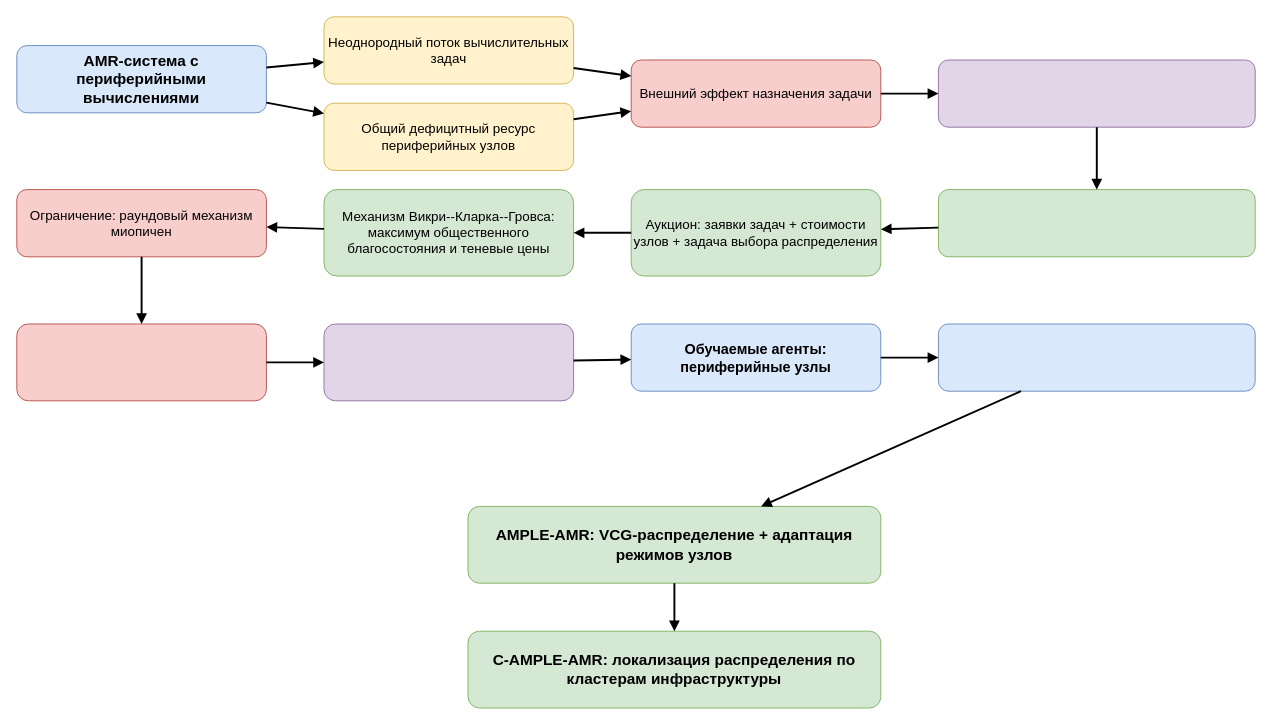
This 1272x725 diagram has some shape labels left out. Each missing label, with the box of its shape:
Действия: операционные режимы узлов: (937, 323, 1255, 391)
Динамика: очереди, связь, отказы, будущие критические задачи: (16, 323, 266, 401)
Проектирование экономических механизмов: (937, 189, 1255, 257)
Требование: адаптация без изменения заявок и функций полезности: (323, 323, 574, 401)
Требование: локально обоснованное распределение и оценка внешнего эффекта: (937, 59, 1255, 127)
